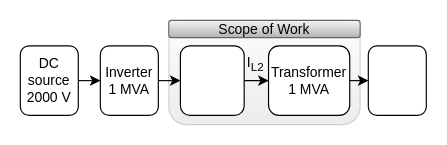
This 447x145 diagram has some shape labels left out. The centre of each missing label's shape, as x and y in pixels:
Grid 20 KV: (396,80)
LCL filter L 1 ,C,L 2: (211,80)
